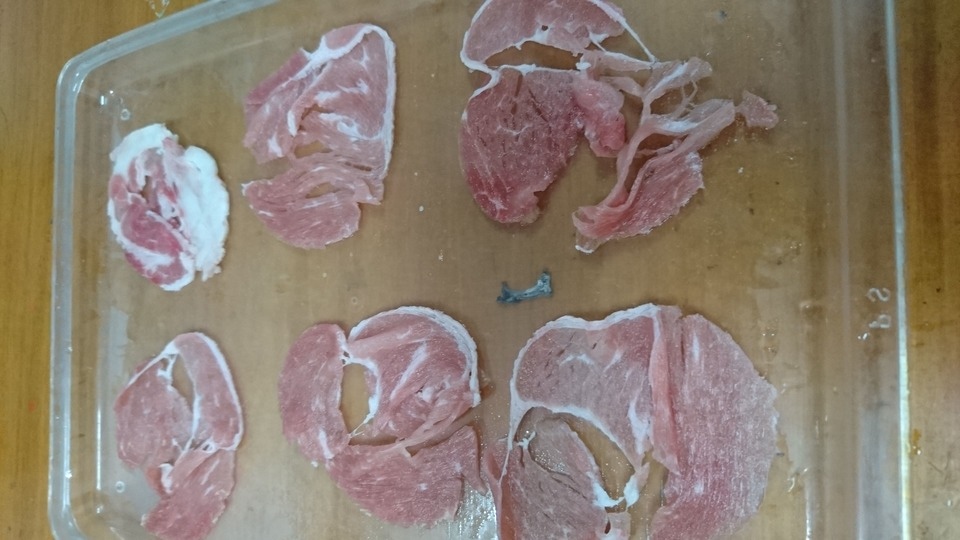restructured meat: (443, 10, 785, 279), (503, 299, 775, 540), (269, 282, 490, 532), (217, 30, 410, 254), (116, 323, 251, 534), (99, 122, 236, 286)
